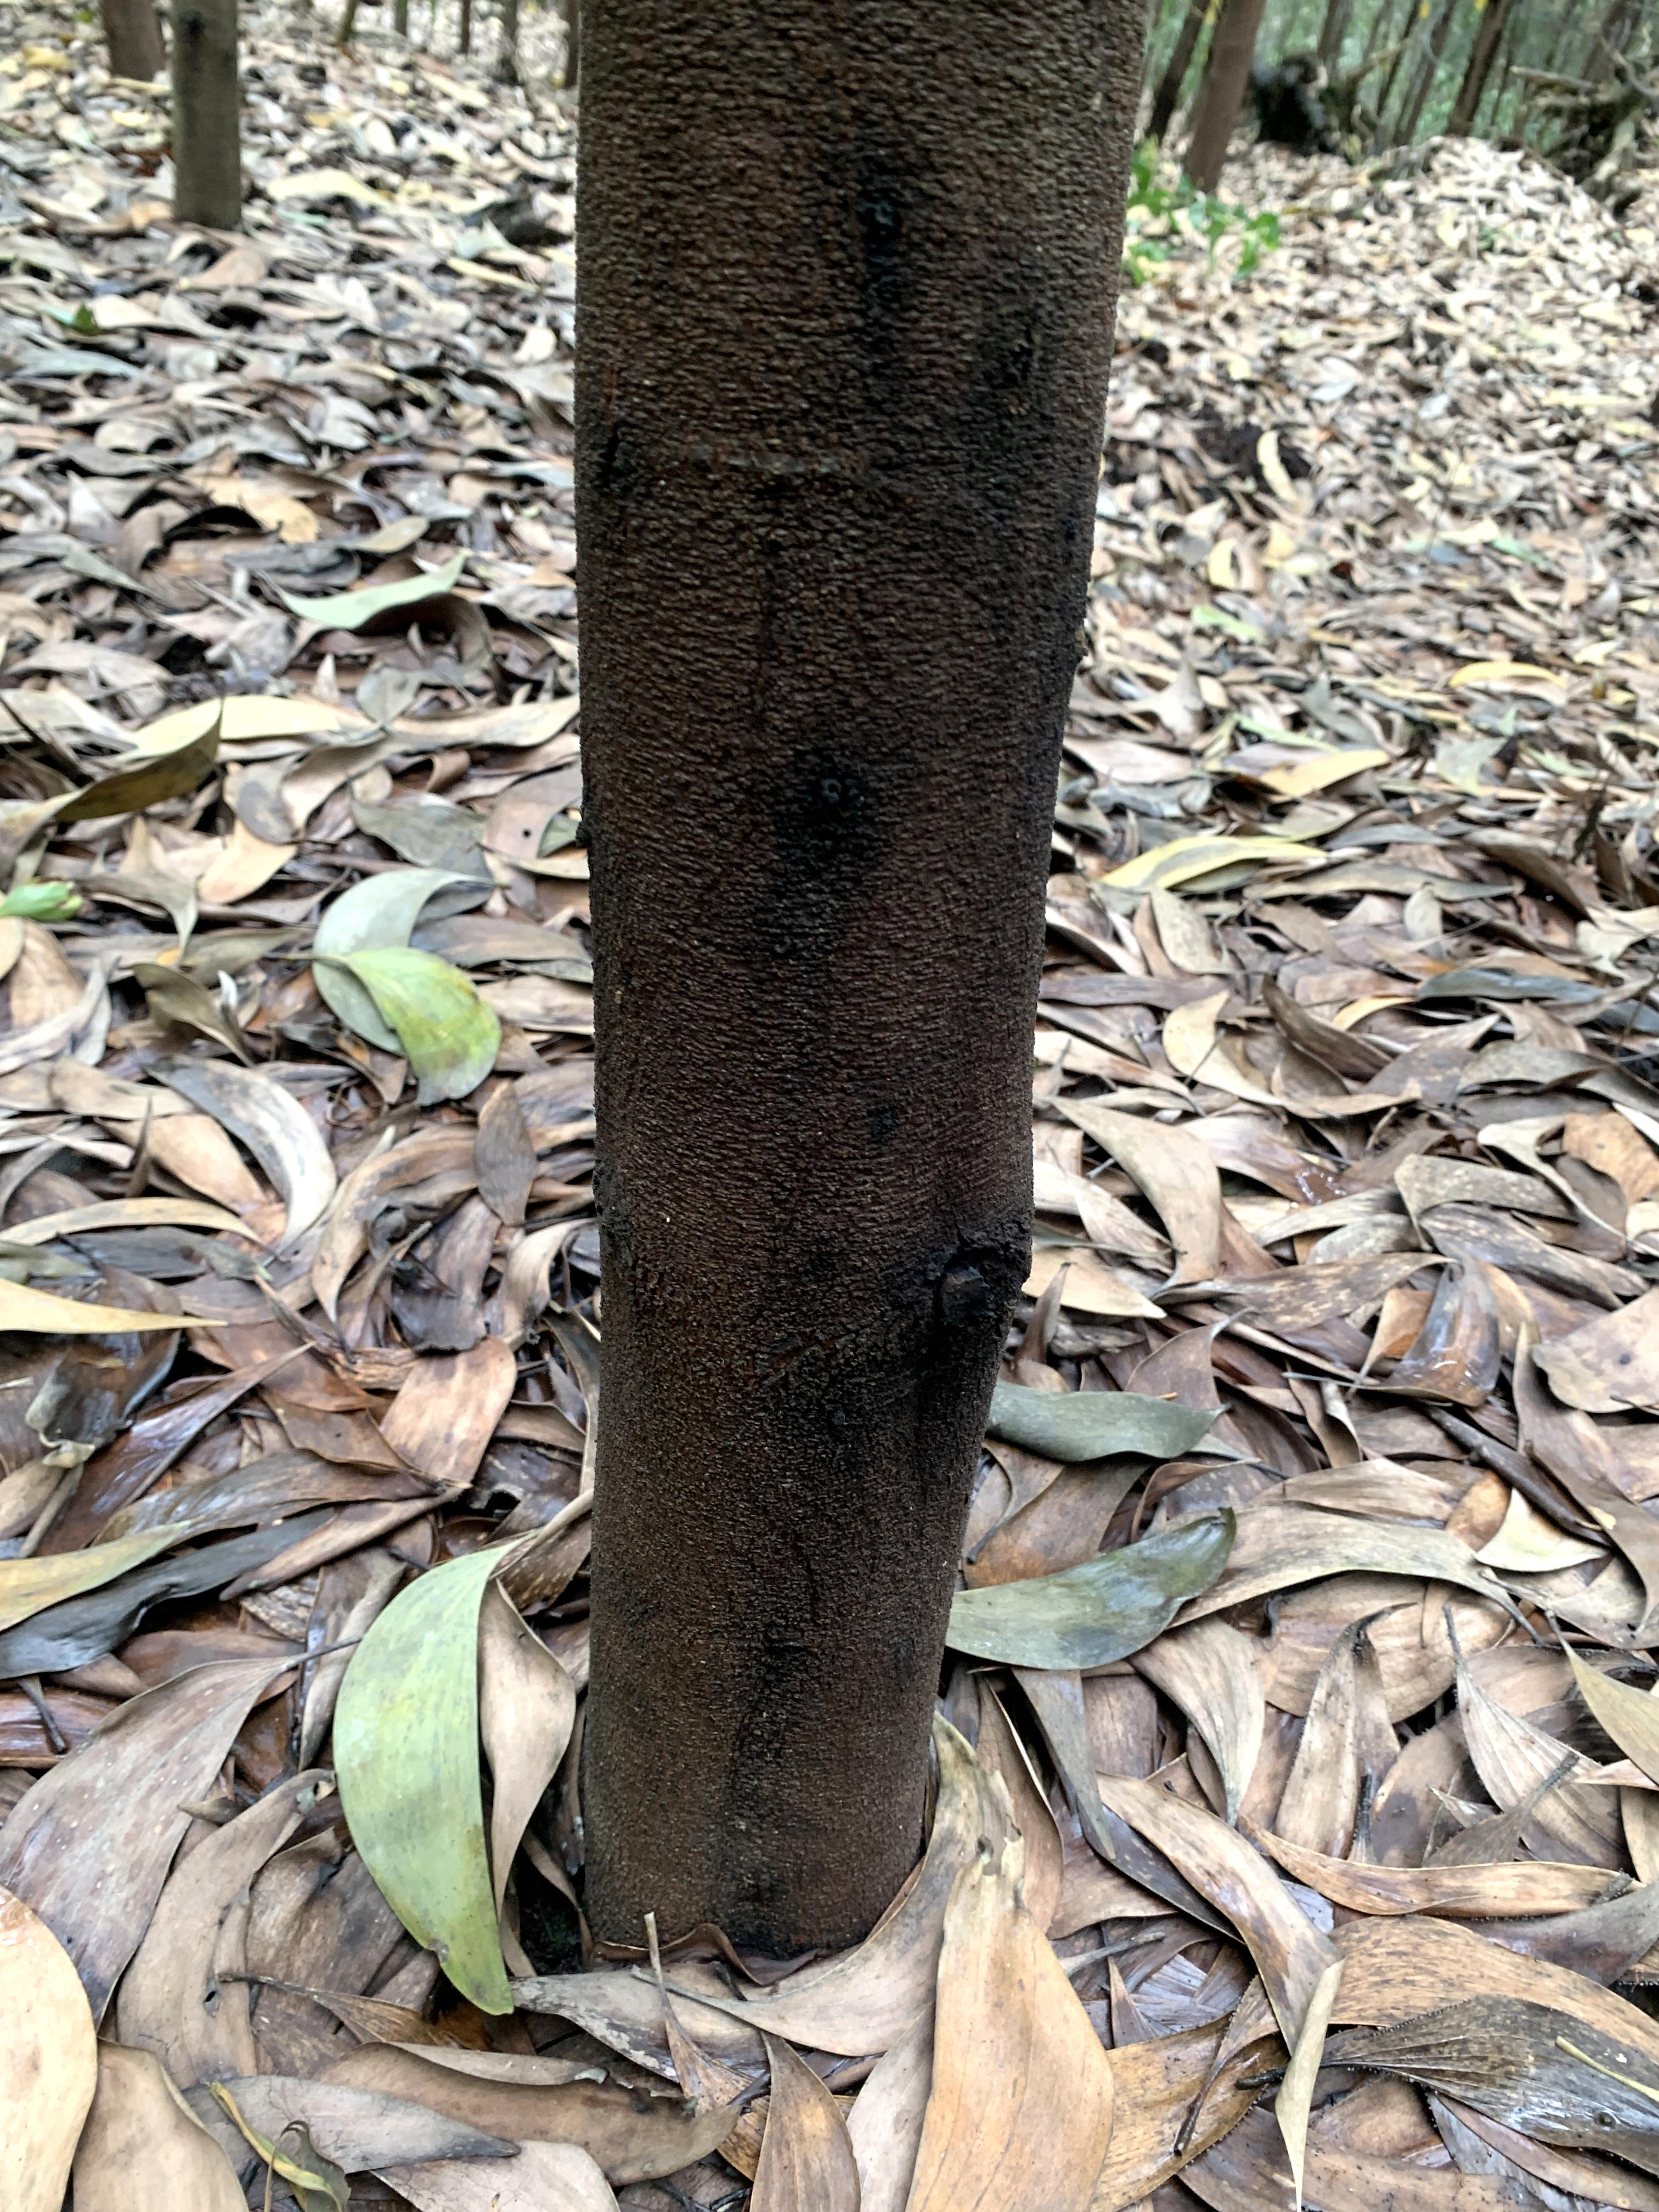Stem Borer: (796, 681, 871, 892), (927, 1195, 1007, 1343), (732, 1609, 805, 1719), (575, 408, 643, 517), (995, 314, 1060, 421), (859, 162, 908, 247)
